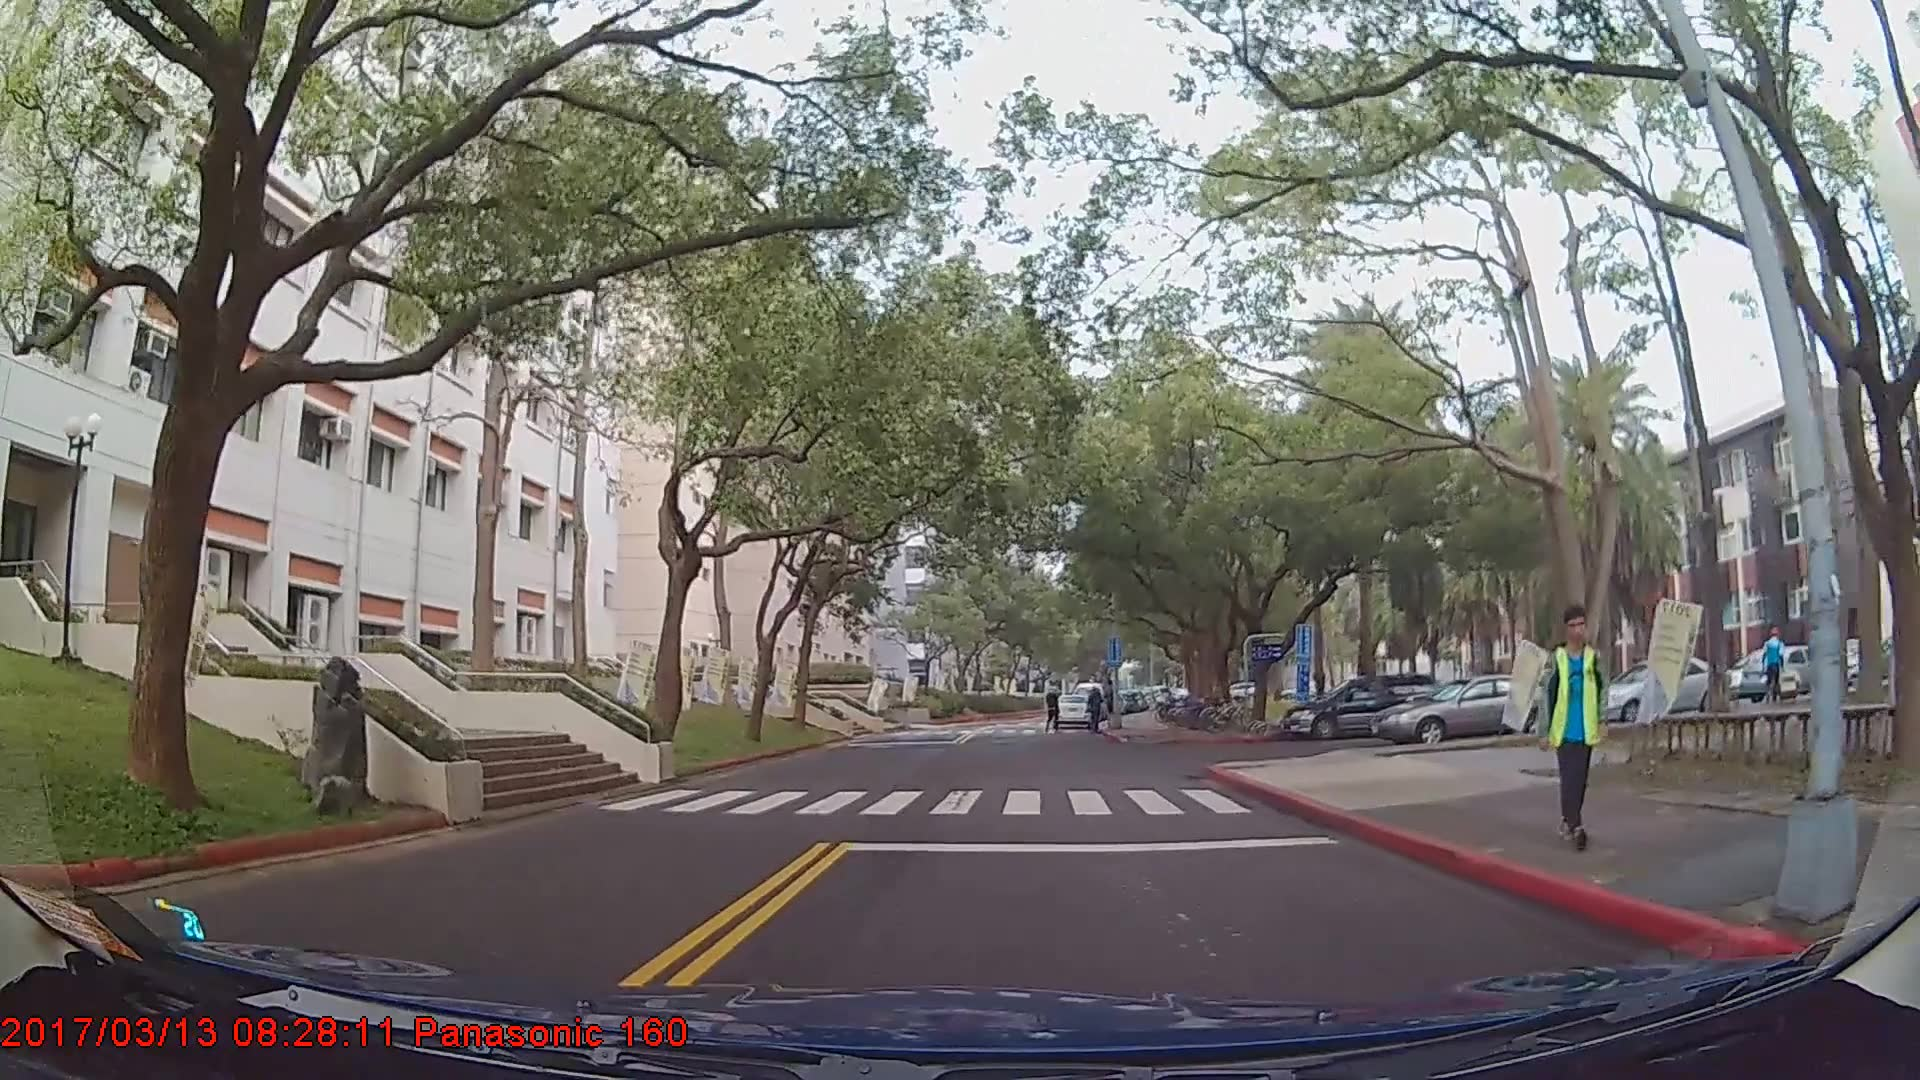pedestrian: (1535, 600, 1610, 847), (1758, 619, 1793, 711), (1044, 685, 1064, 735), (1086, 688, 1106, 735)
vehicle: (1371, 673, 1569, 746), (1282, 672, 1444, 738), (1585, 657, 1735, 727), (1739, 642, 1832, 702), (1050, 694, 1094, 731)
